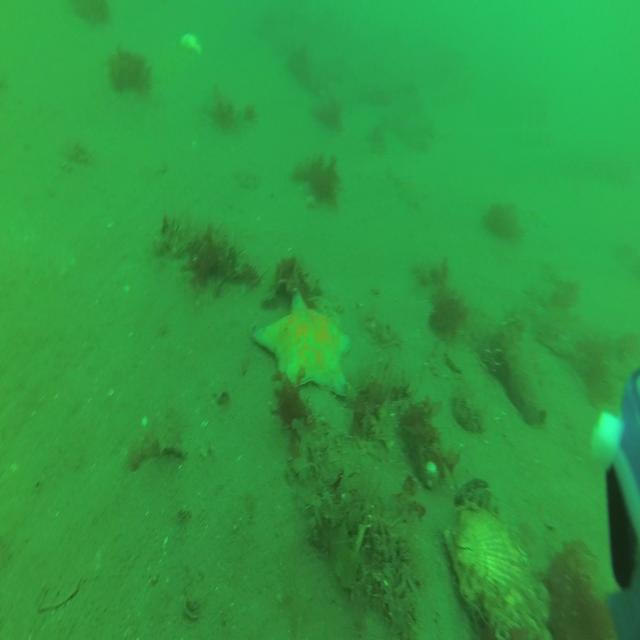scallop: (442, 502, 550, 639)
starfish: (252, 287, 353, 400)
